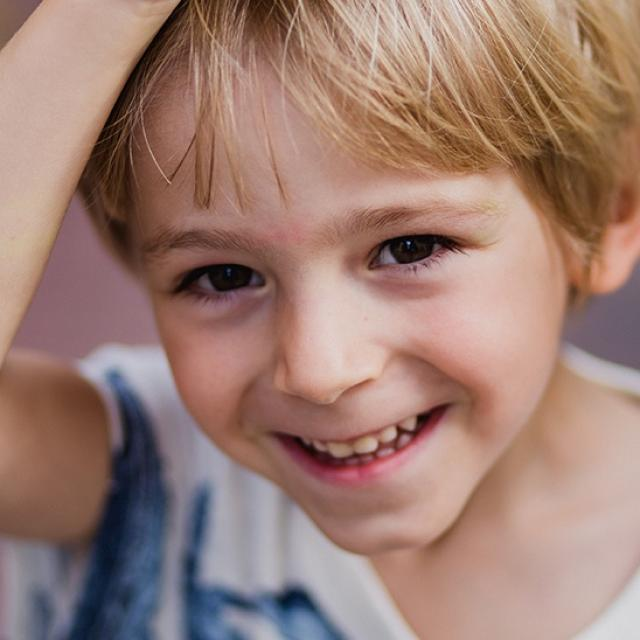Normal: (135, 22, 572, 554)
